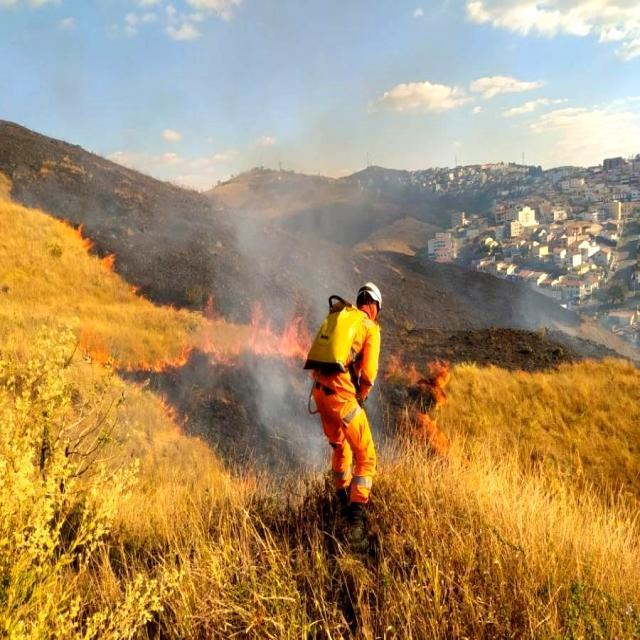Smoke: (216, 154, 351, 446)
